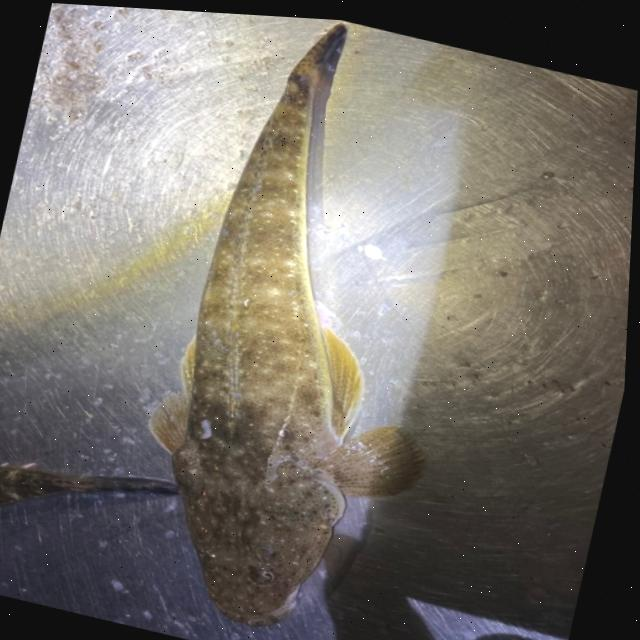Flathead: (103, 6, 528, 640)
